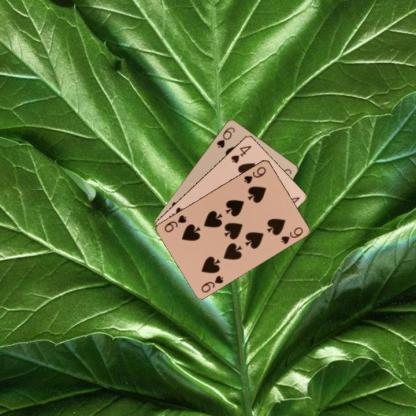4s: (228, 142, 253, 165)
6s: (214, 124, 236, 149)
9s: (242, 163, 268, 185), (199, 272, 225, 294)
